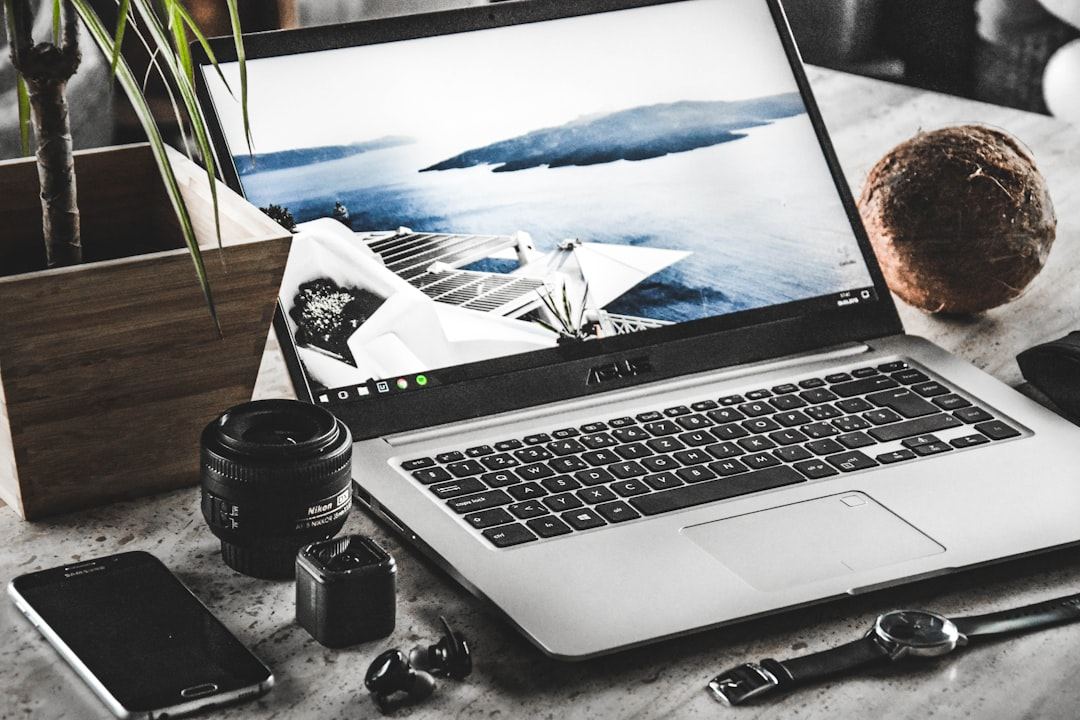phone: (6, 550, 277, 716)
